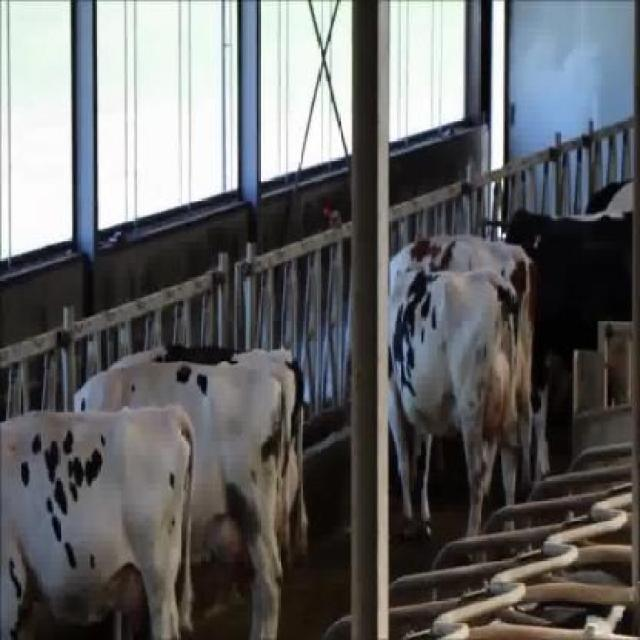Cow: (72, 360, 294, 638), (2, 398, 202, 638), (389, 266, 523, 576)
